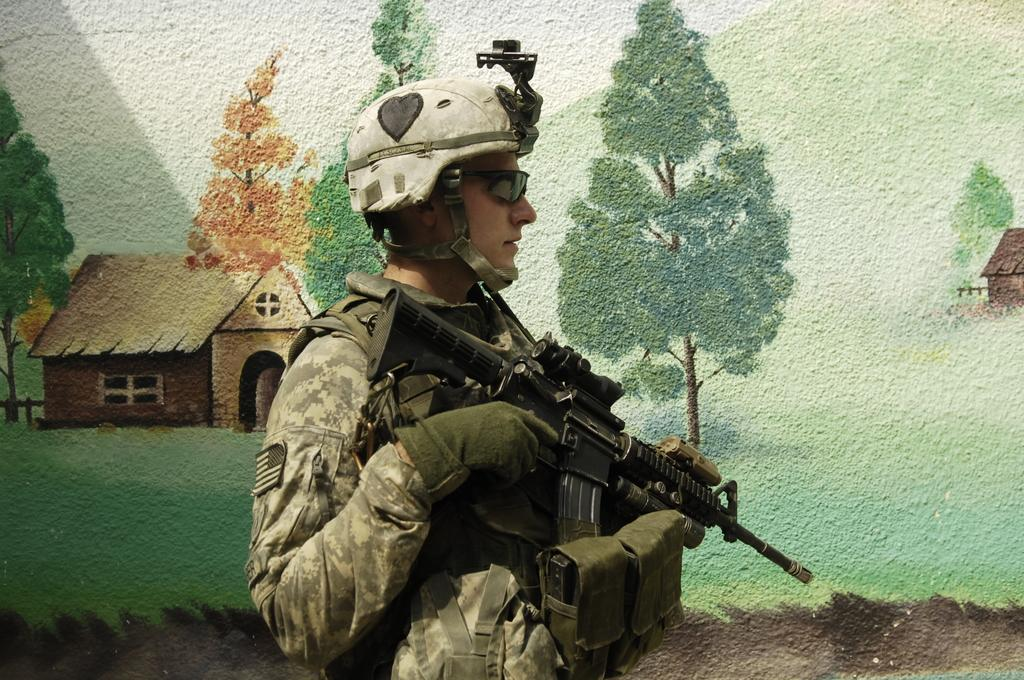Rifle: (356, 284, 797, 649)
